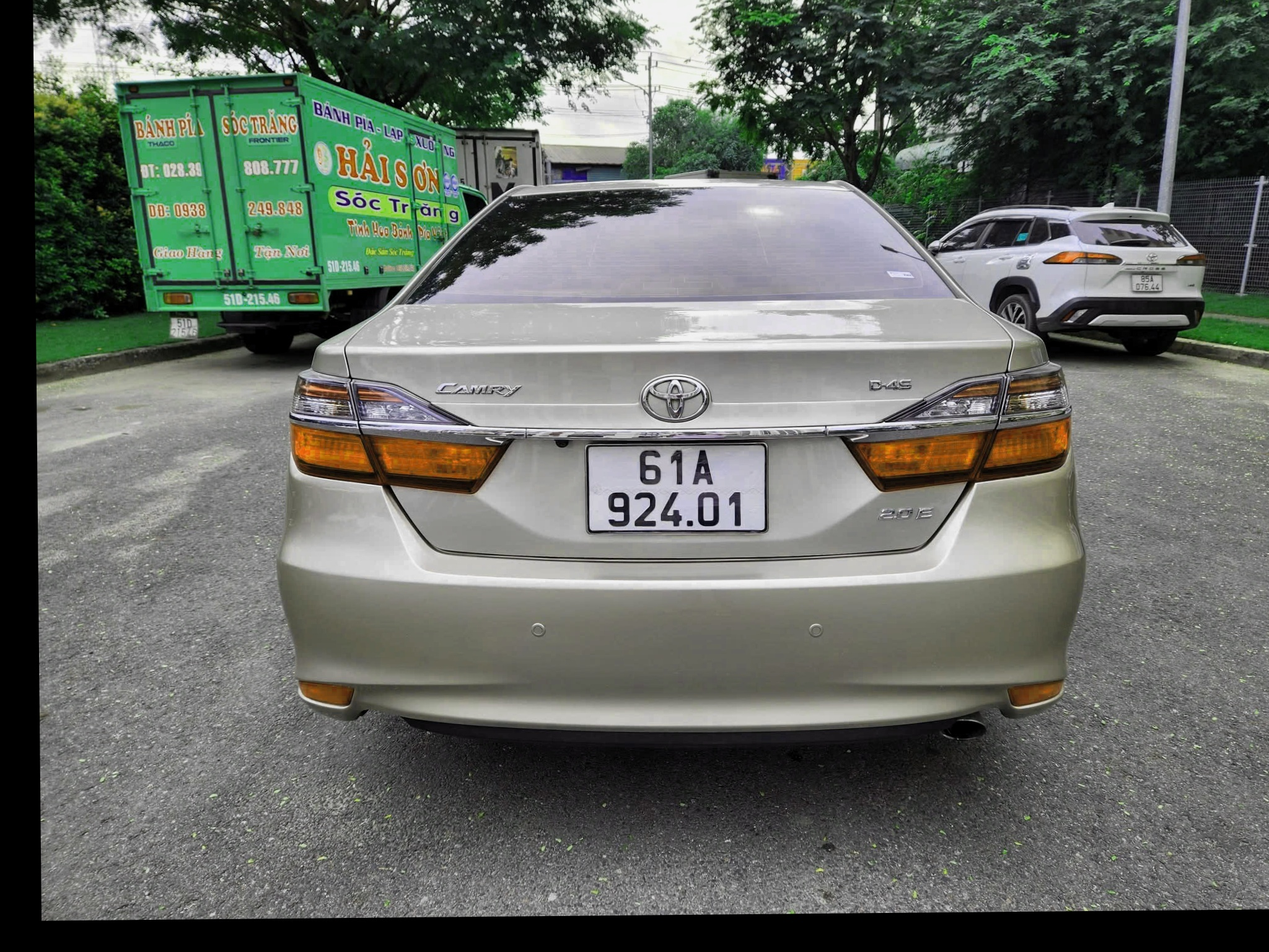Bien-so: (586, 442, 771, 534), (170, 314, 200, 343), (1129, 266, 1160, 294)
